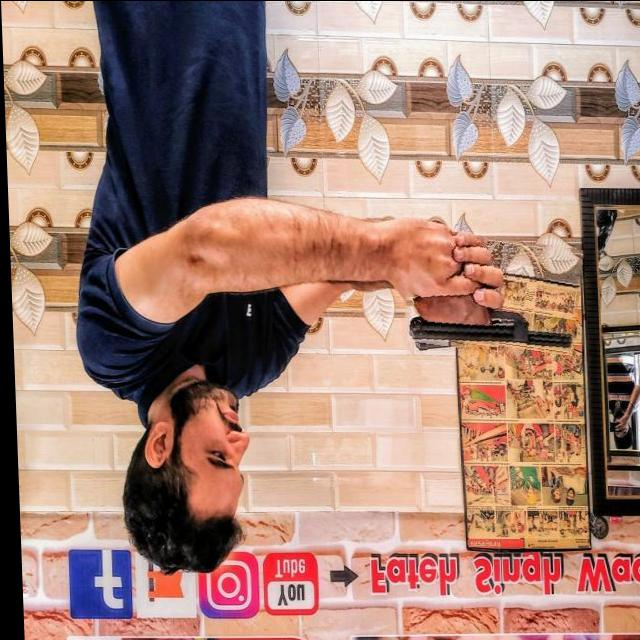handgun: (398, 232, 580, 358)
